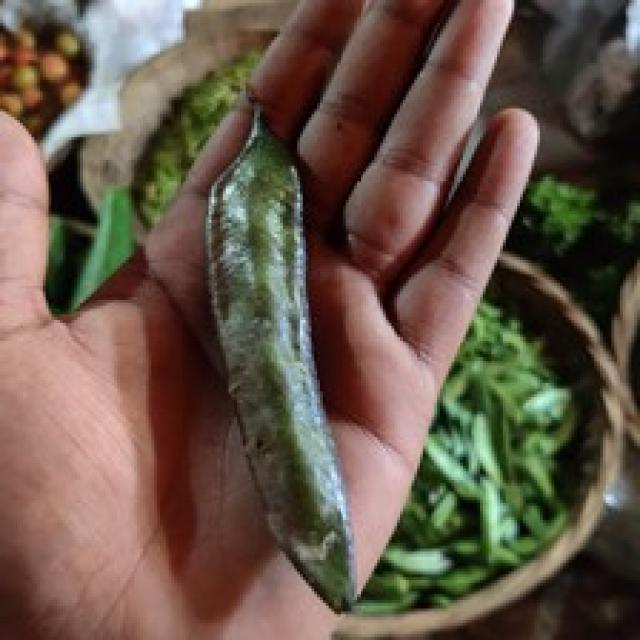Bean: (203, 103, 357, 611)
